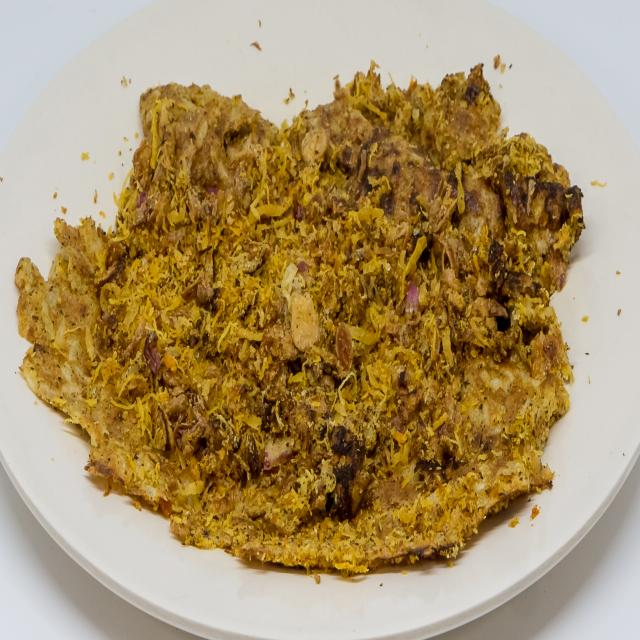Kerak-Telor: (12, 38, 593, 586)
